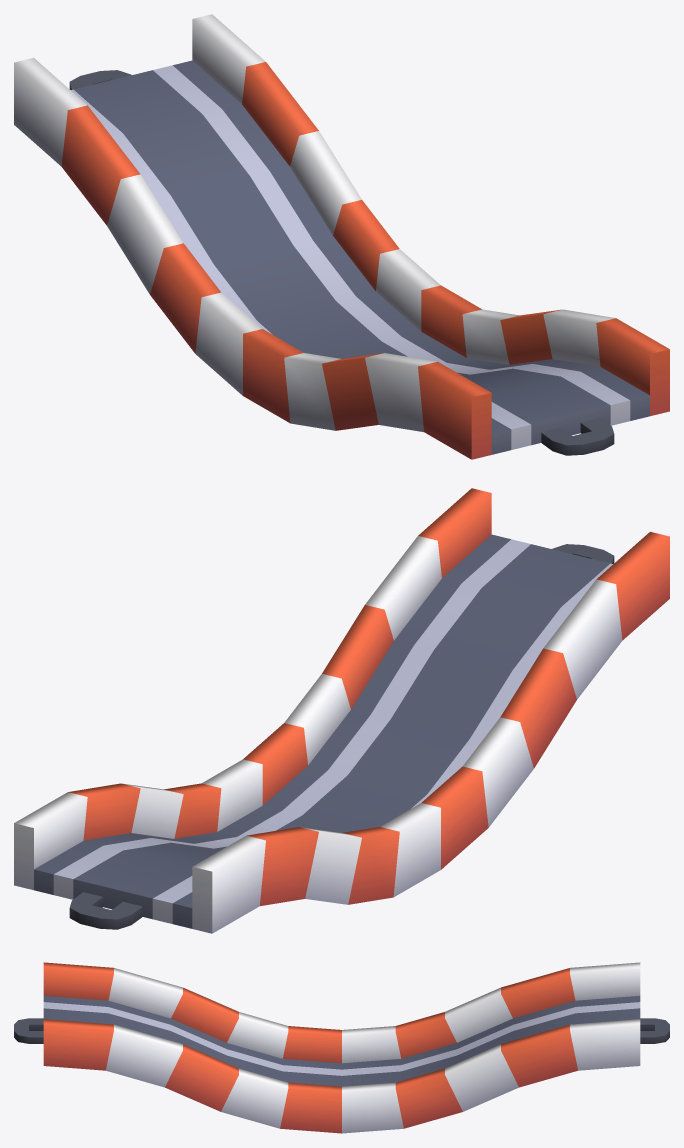
The model's file is kenney-toy-car-track-road-narrow-straight-bump-down.glb.
3 views of the same model, one above another, from view 1: azimuth 30°, elevation 25°; view 2: azimuth 150°, elevation 25°; view 3: azimuth 270°, elevation 25° (orthographic). The views are drawn at different scales.
Visible parts, largest first — view 1: track-road-narrow-straight-bump-down; view 2: track-road-narrow-straight-bump-down; view 3: track-road-narrow-straight-bump-down.
Part boxes in pixels (bbox=[...]): track-road-narrow-straight-bump-down: bbox=[14, 14, 669, 459]; track-road-narrow-straight-bump-down: bbox=[14, 488, 669, 933]; track-road-narrow-straight-bump-down: bbox=[14, 962, 669, 1133].
Size of the model in its own units: 1 by 0.7998 by 4.4.
1 material, 1 textured.
